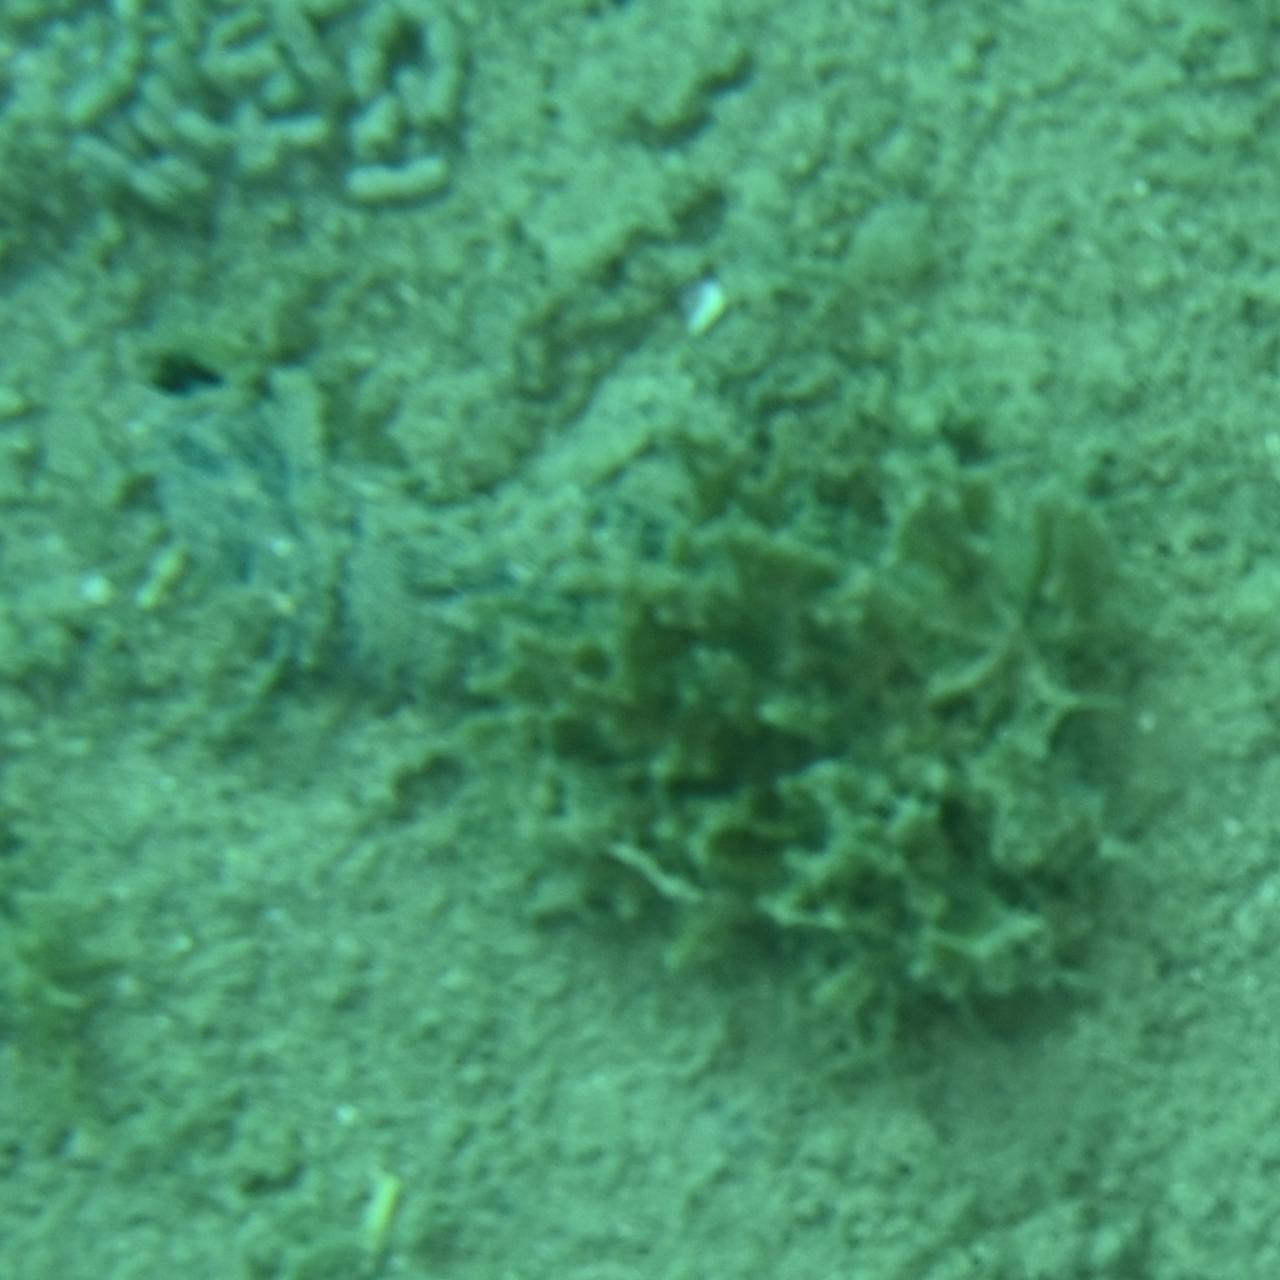Holothuria tubulosa: (73, 350, 777, 745)
Phaeophyceae -cfr Cystoseira-: (549, 397, 1162, 1069)
